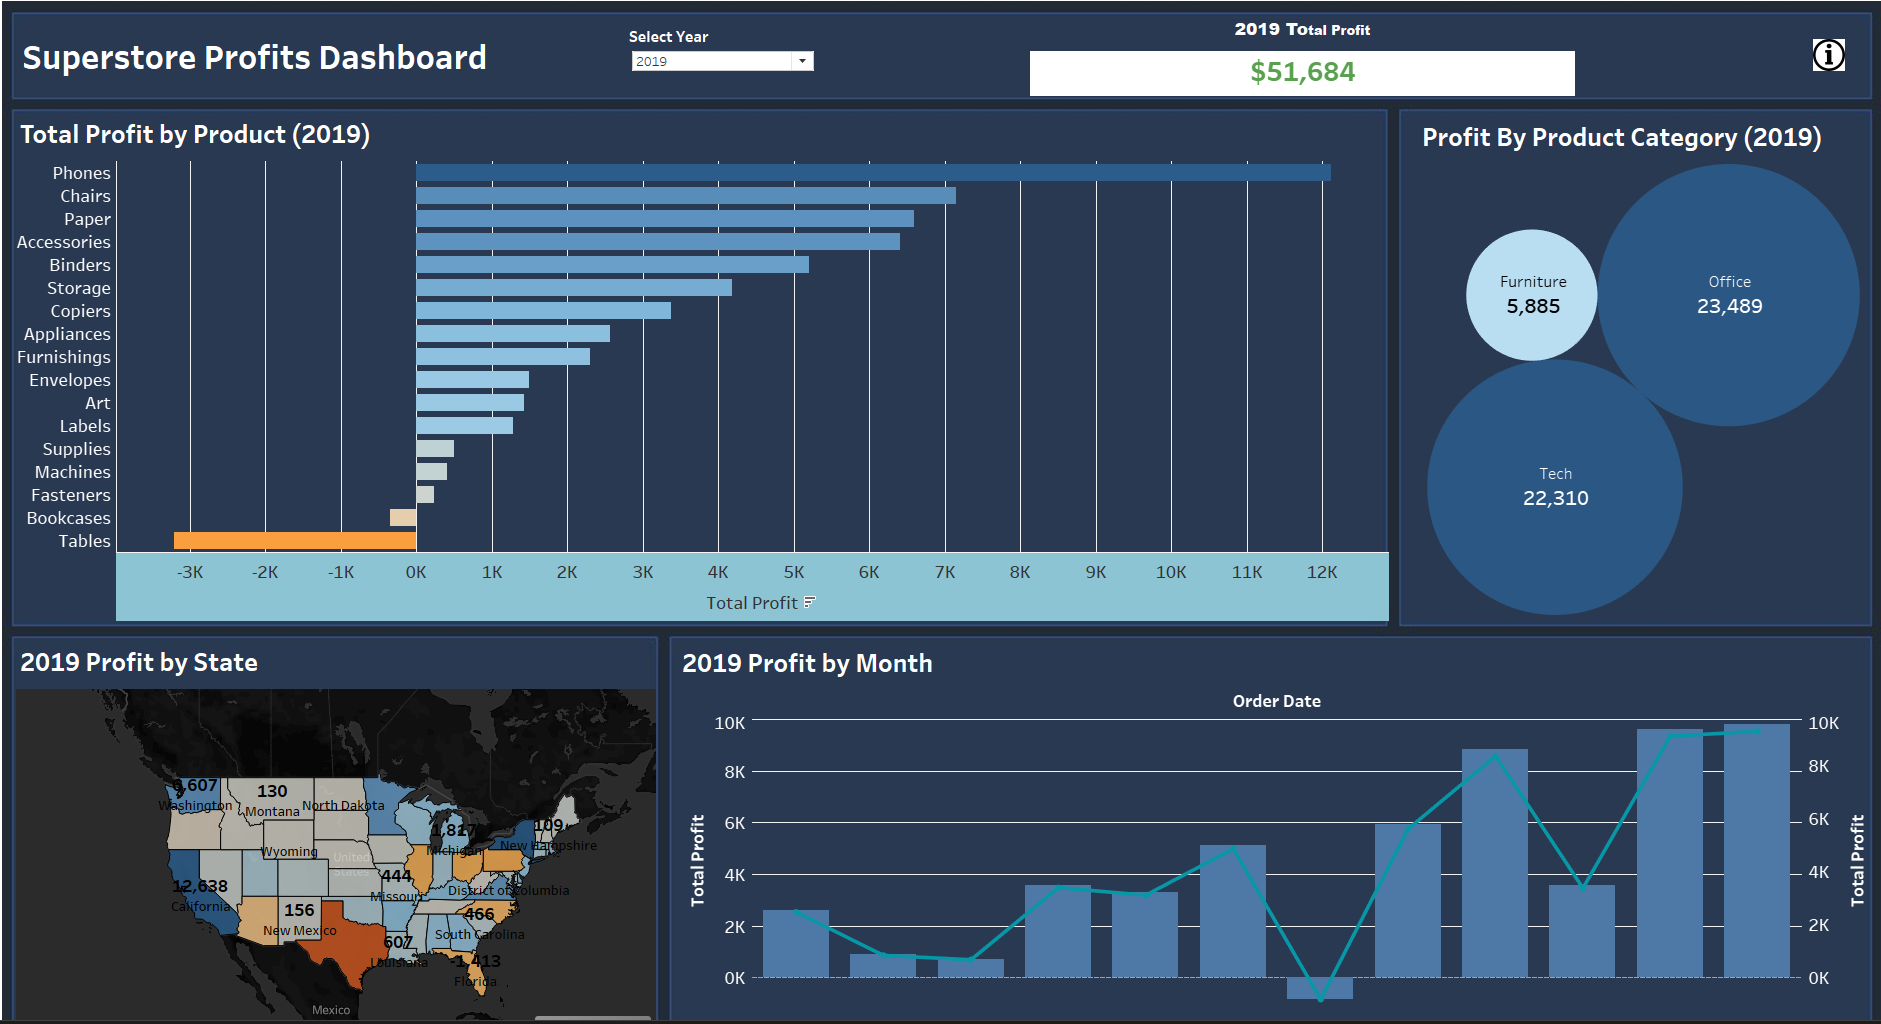

What the dashboard file says about the page in this screenshot:
{"tool":"tableau","page":{"name":"Superstore Profits Dashboard","canvas":[1980,1065],"ordinal":0},"visuals":[{"type":"image","param":"Image/Background1.jpg","box":[0,0,1980,1065]},{"type":"worksheet","title":"Profit KPI","mark":"Automatic","box":[1032,14.9,545,83.6]},{"type":"text","box":[21,20.9,480,75.6]},{"type":"worksheet","title":"Hover Button","mark":"Shape","box":[1786,25.9,90,63.7]},{"type":"parameter","param":"[Parameters].[Parameter 3]","box":[631,28.9,188,67.7]},{"type":"worksheet","title":"Total Profit by Product","mark":"Automatic","rows":["Sub-Category"],"cols":["Calculation_1581889371292999681"],"box":[14,111.5,1381,516.6]},{"type":"worksheet","title":"Profit By Product Category","mark":"Circle","box":[1416,114.5,459,507.6]},{"type":"worksheet","title":"Profit by State","mark":"Automatic","box":[14,639,648,414.1]},{"type":"worksheet","title":"Profit by Month","mark":"Bar","rows":["Calculation_1581889371292999681","Calculation_1581889371292999681"],"cols":["Order Date"],"box":[676,640,1205,409.1]}]}

Visuals, with their boxes in screenshot pixels (x1, y1, x2, y2), scaled from the page's 1980x1065 canvas onto the 1881x1024 screenshot:
image: BBox(0, 0, 1880, 1023)
"Profit KPI" worksheet: BBox(980, 14, 1498, 95)
text: BBox(20, 20, 476, 93)
"Hover Button" worksheet (Shape marks): BBox(1697, 25, 1782, 86)
parameter: BBox(599, 28, 778, 93)
"Total Profit by Product" worksheet: BBox(13, 107, 1325, 604)
"Profit By Product Category" worksheet (Circle marks): BBox(1345, 110, 1781, 598)
"Profit by State" worksheet: BBox(13, 614, 629, 1013)
"Profit by Month" worksheet (Bar marks): BBox(642, 615, 1787, 1009)
